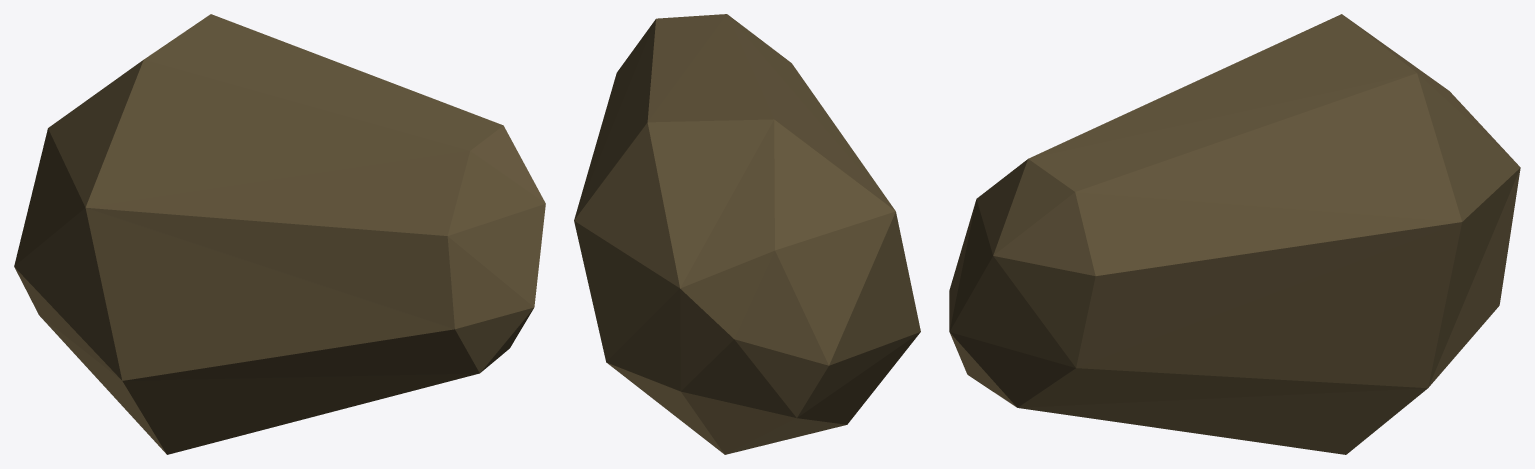
The model's file is ant-trochanter-hind-right.dae.
3 views of the same model, side by side, from view 1: azimuth 30°, elevation 25°; view 2: azimuth 150°, elevation 25°; view 3: azimuth 270°, elevation 25° (orthographic). The views are drawn at different scales.
Visible parts, largest first — view 1: ant-femur-trochanter-hind-right; view 2: ant-femur-trochanter-hind-right; view 3: ant-femur-trochanter-hind-right.
Boxes of the visible parts, x1,y1,x2,y2 form: ant-femur-trochanter-hind-right: [14, 14, 545, 454]; ant-femur-trochanter-hind-right: [574, 14, 920, 454]; ant-femur-trochanter-hind-right: [949, 14, 1520, 454].
Bounding box in the file's own units: 1.22 × 1.45 × 1.15.
